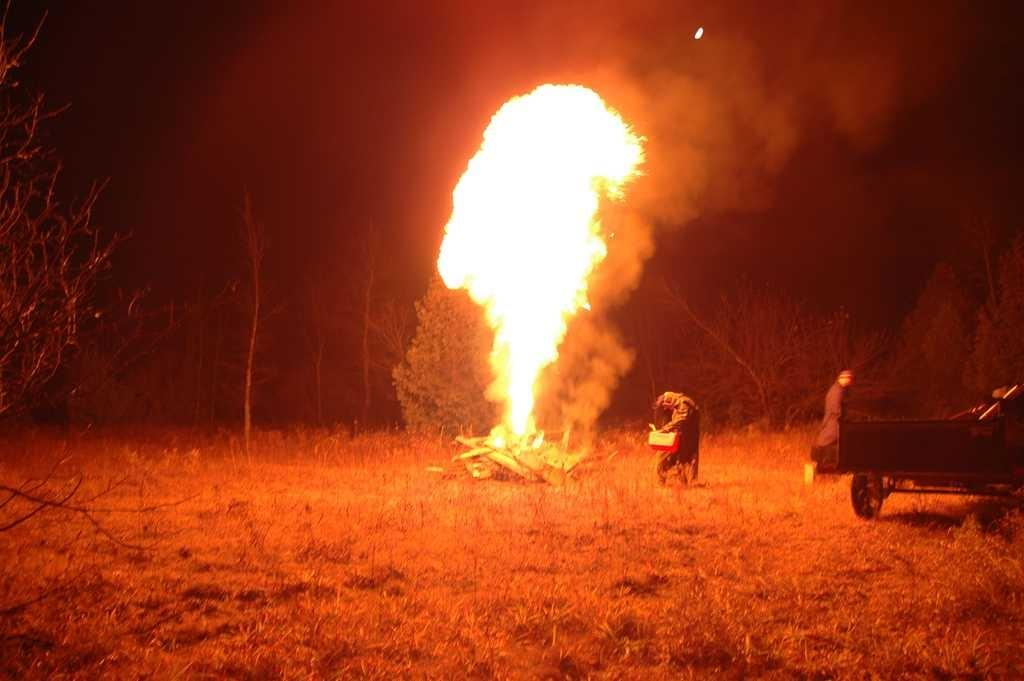fire: (490, 105, 590, 333)
